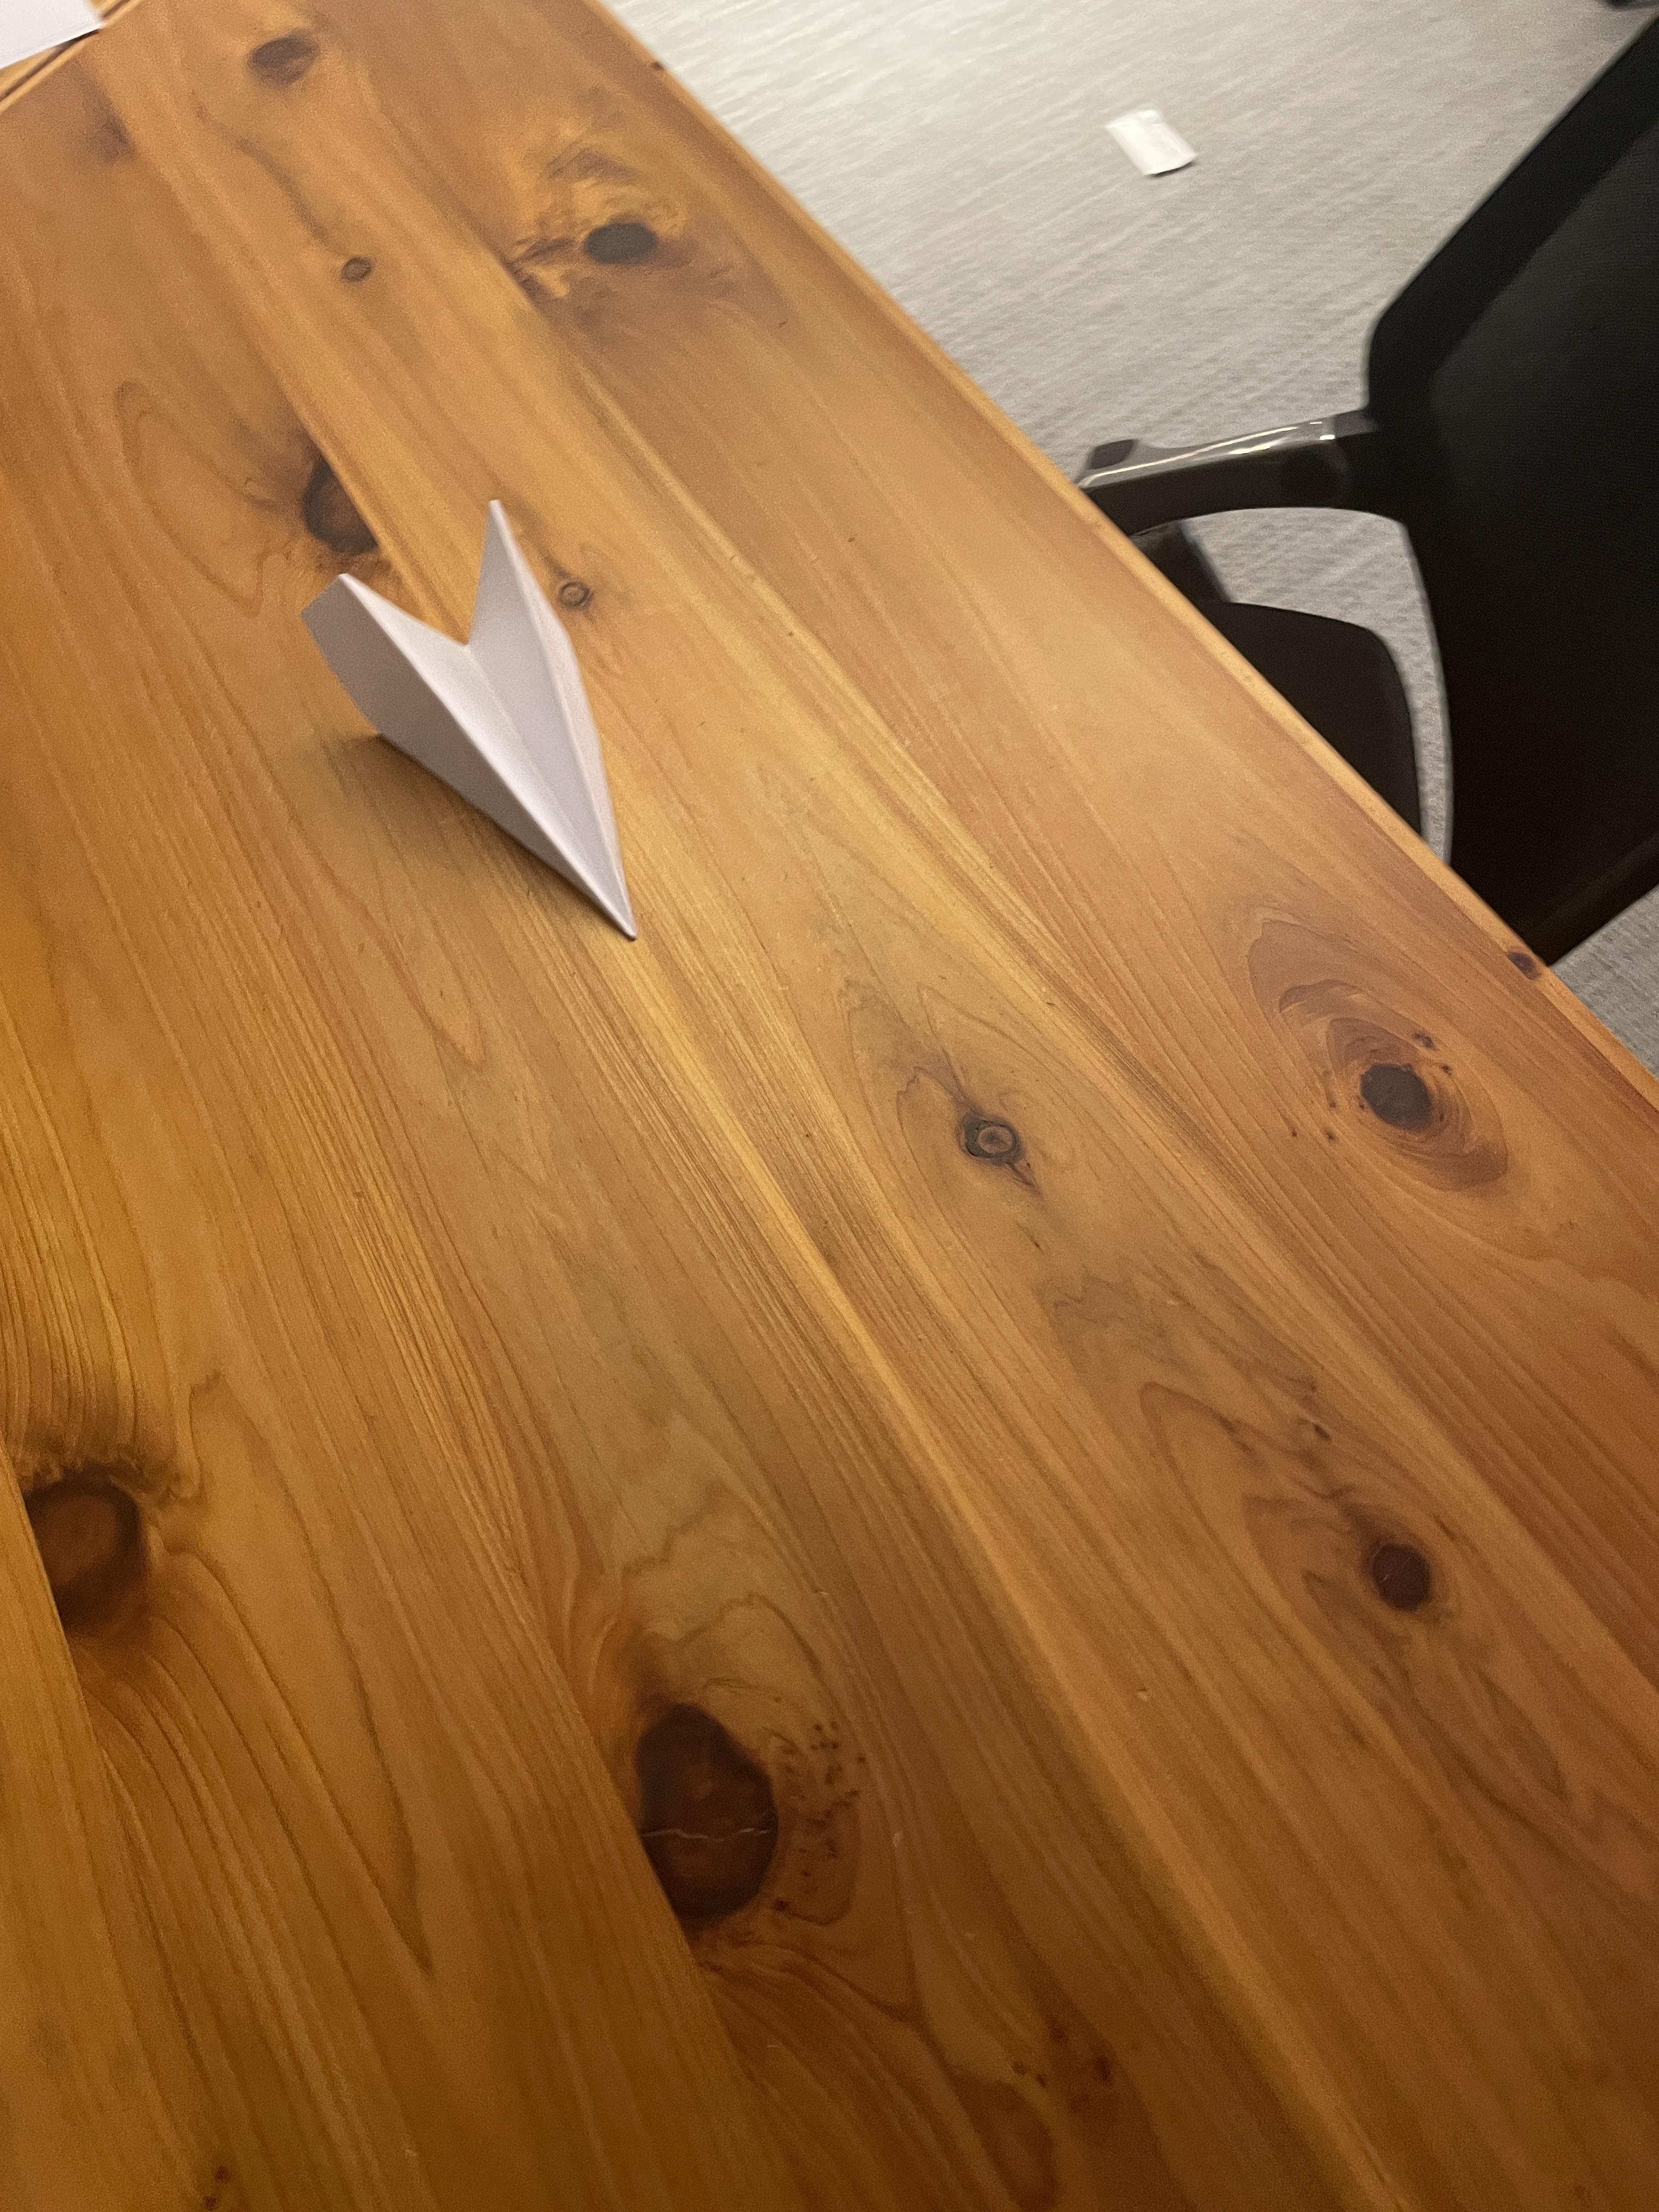shape_3: (268, 451, 741, 984)
